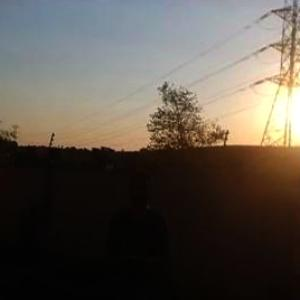follow: (100, 163, 174, 299)
